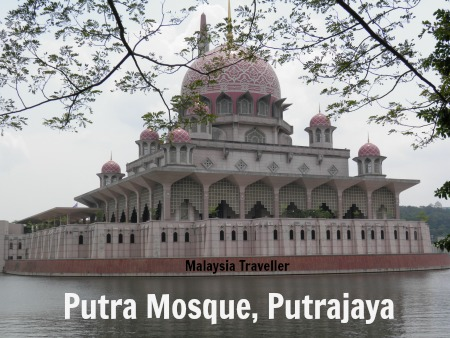Mosque: (58, 24, 425, 267)
